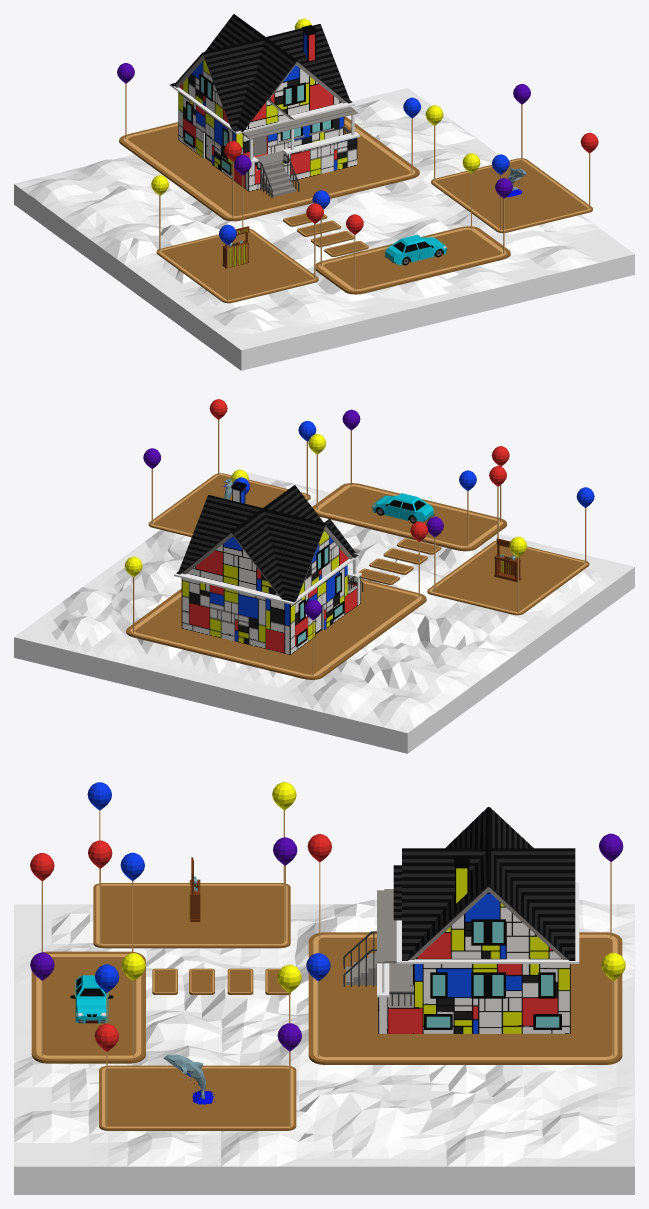
The picture shows the model from 3 angles, top to bottom: view 1: azimuth 30°, elevation 25°; view 2: azimuth 150°, elevation 25°; view 3: azimuth 270°, elevation 25°; orthographic projection. The views are drawn at different scales.
Visible parts, largest first — view 1: Cube.013, Cube.840, VEHICLES_CAR, OBJRANDOM_LEMONADE_STAND; view 2: Cube.013, Cube.840, VEHICLES_CAR, OBJRANDOM_LEMONADE_STAND; view 3: Cube.013, Cube.840, VEHICLES_CAR, ANIMAL_DELFIN, OBJRANDOM_LEMONADE_STAND.
Boxes of the visible parts, box(x1,y1,x2,y2) form: Cube.013: box(14, 18, 634, 370); Cube.840: box(169, 14, 360, 198); VEHICLES_CAR: box(384, 234, 446, 265); OBJRANDOM_LEMONADE_STAND: box(222, 226, 249, 268); Cube.013: box(14, 399, 634, 753); Cube.840: box(174, 481, 363, 654); VEHICLES_CAR: box(372, 493, 434, 523); OBJRANDOM_LEMONADE_STAND: box(494, 538, 520, 581); Cube.013: box(14, 782, 634, 1194); Cube.840: box(343, 807, 579, 1033); VEHICLES_CAR: box(70, 975, 113, 1023); ANIMAL_DELFIN: box(163, 1054, 215, 1104); OBJRANDOM_LEMONADE_STAND: box(189, 857, 200, 921).
Bounding box in the file's own units: 4000 × 1792 × 4000.
Materials: 37 (2 with a texture image).
